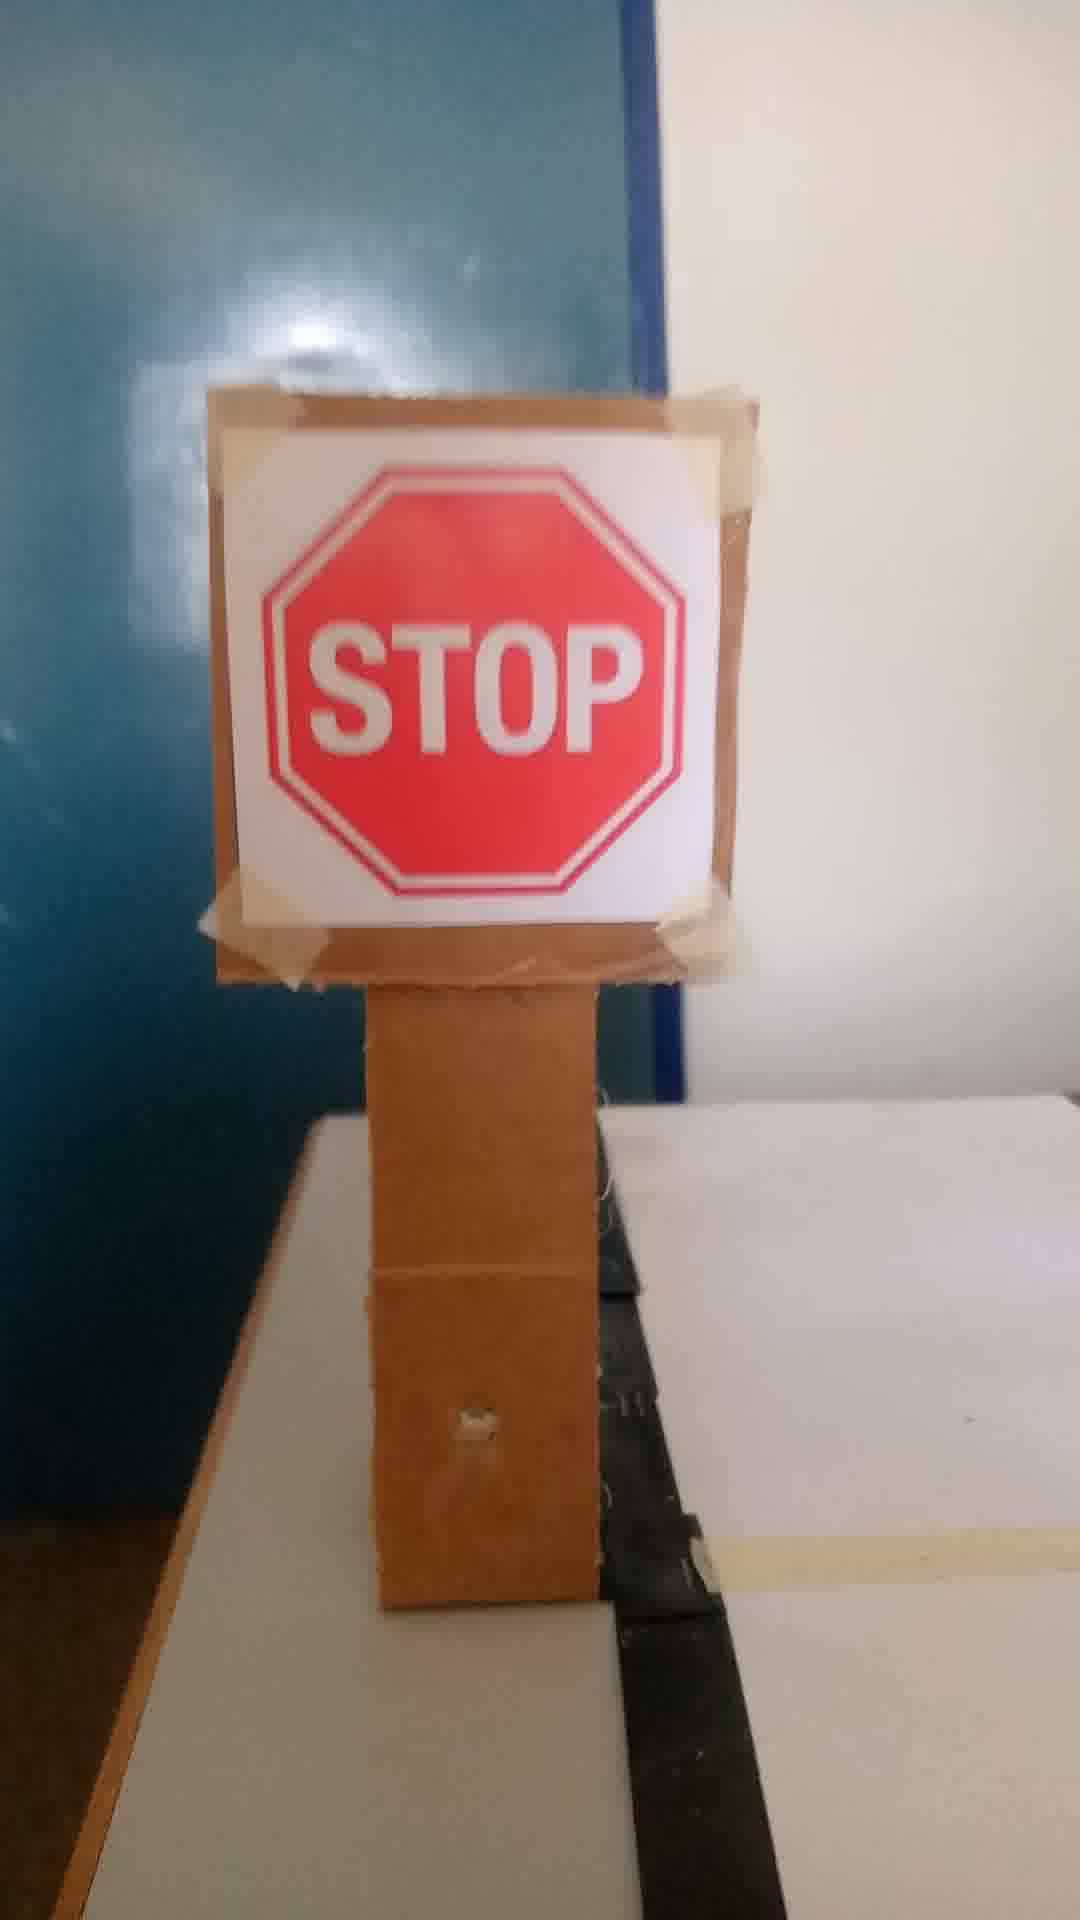panel101: (207, 423, 717, 934)
